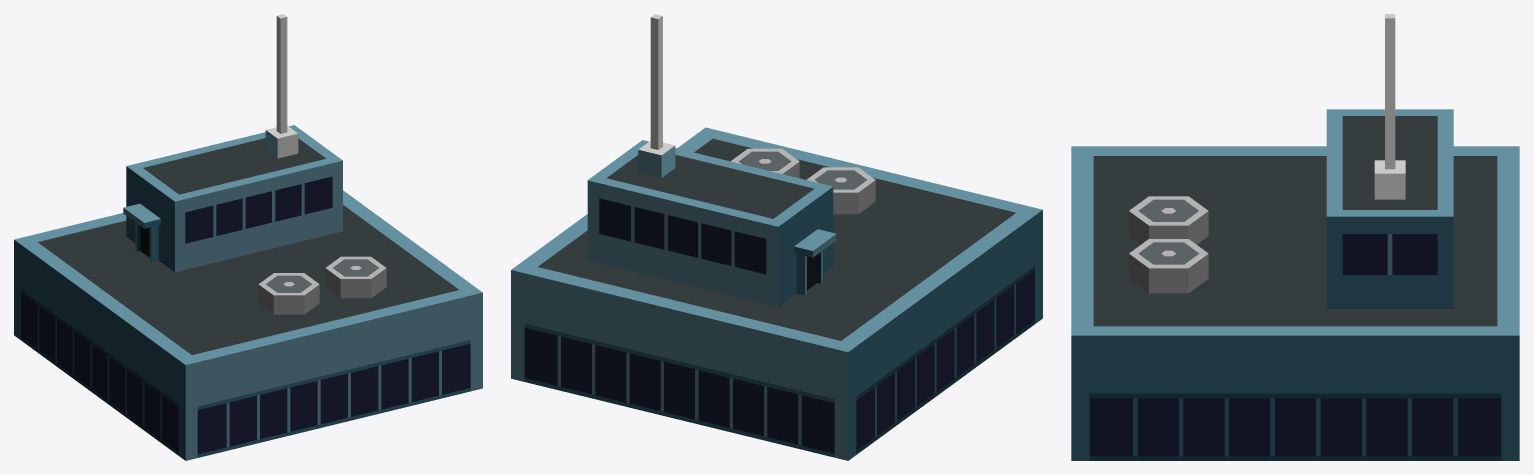
The model's file is TB_CITY_Skysc_N_Top_Blue.FBX.
3 views of the same model, side by side, from view 1: azimuth 30°, elevation 25°; view 2: azimuth 150°, elevation 25°; view 3: azimuth 270°, elevation 25° (orthographic). The views are drawn at different scales.
Visible parts, largest first — view 1: TB_CITY_Skysc_N_Top_Blue; view 2: TB_CITY_Skysc_N_Top_Blue; view 3: TB_CITY_Skysc_N_Top_Blue.
Part boxes in pixels (<box>): TB_CITY_Skysc_N_Top_Blue: <box>14,14,482,460</box>; TB_CITY_Skysc_N_Top_Blue: <box>511,14,1042,460</box>; TB_CITY_Skysc_N_Top_Blue: <box>1071,14,1519,460</box>.
Bounding box in the file's own units: 14.94 × 14.51 × 14.94.
